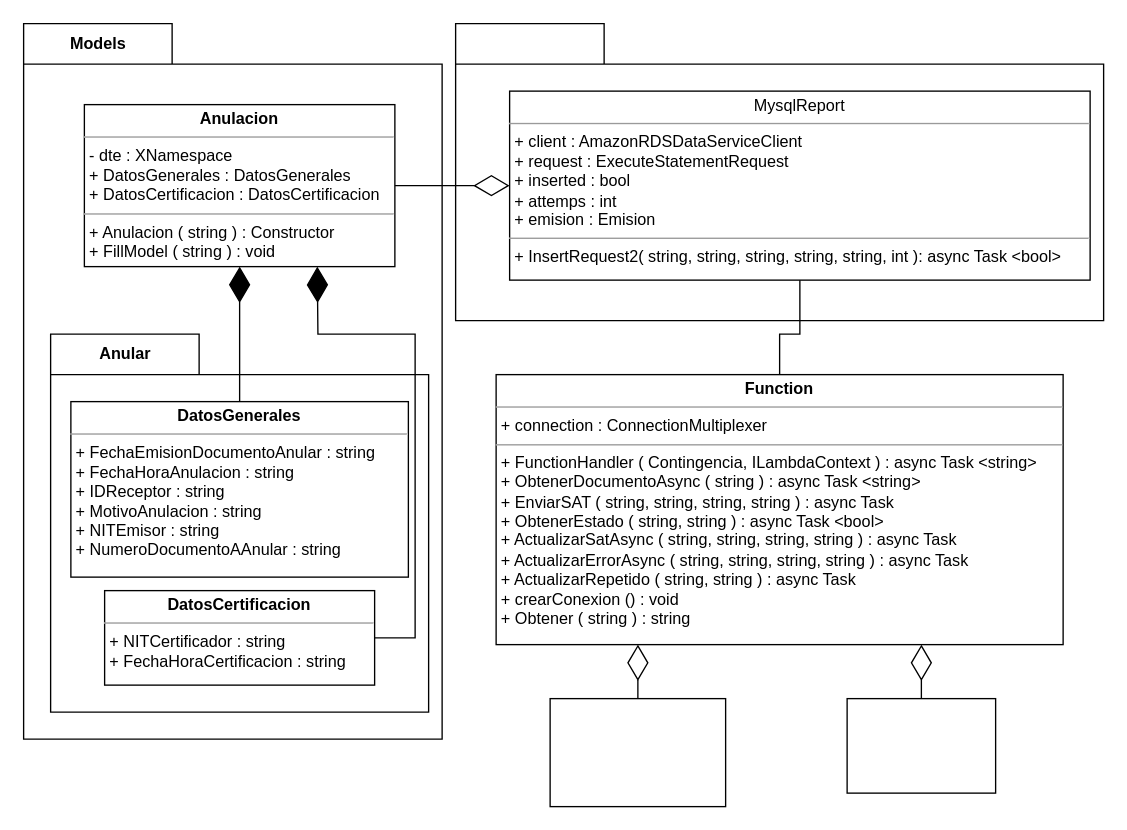
Image size: 1127x830. Some labels were removed from this diagram. Here are the shapes that lost their labels. From the top down, the box of each, then its label:
(454, 22, 1104, 321): Reporteria
(549, 697, 726, 807): Contingencia + NitEmisor : string + Path : string + Autorizacion : string
(846, 697, 996, 793): SatResponse + CodError : string + FaceId : string
